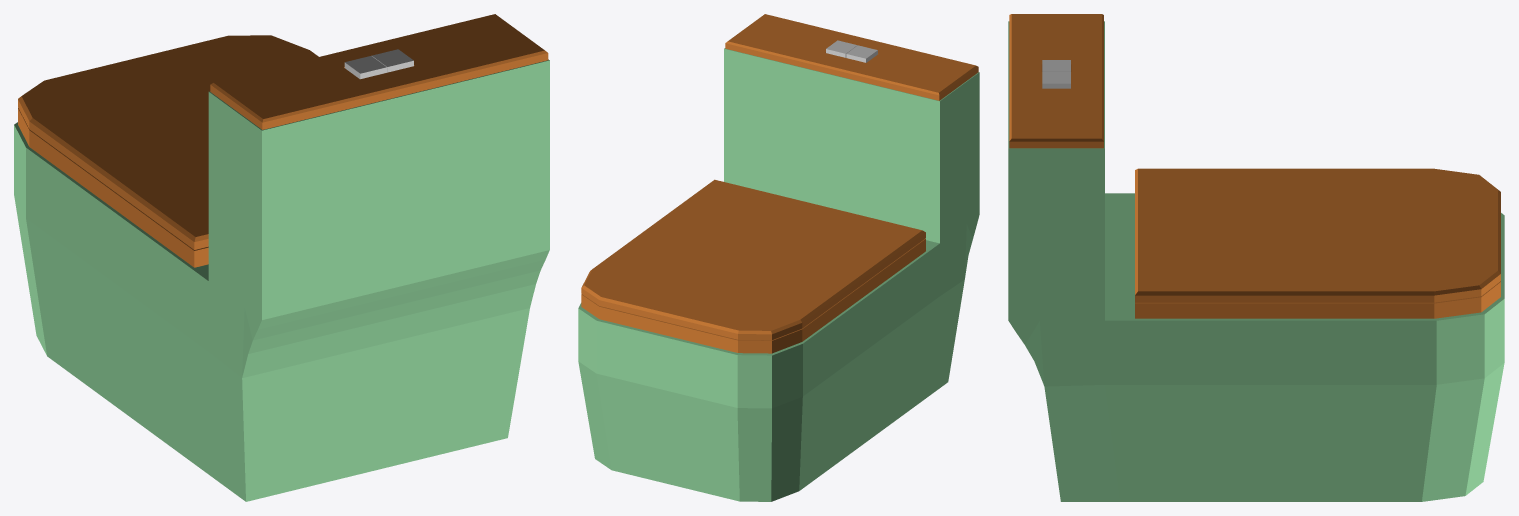
The model's file is Toilet 1.fbx.
3 views of the same model, side by side, from view 1: azimuth 30°, elevation 25°; view 2: azimuth 150°, elevation 25°; view 3: azimuth 270°, elevation 25° (orthographic). The views are drawn at different scales.
Parts seen in each view (by area): view 1: Node 0, Node 2, Node 1; view 2: Node 0, Node 2, Node 1; view 3: Node 0, Node 2, Node 1.
Part boxes in pixels (x1,y1,x2,y2): Node 0: (14, 14, 549, 501); Node 2: (18, 35, 318, 249); Node 1: (18, 108, 208, 267); Node 0: (578, 14, 979, 501); Node 2: (581, 179, 925, 340); Node 1: (581, 238, 925, 353); Node 0: (1008, 14, 1504, 501); Node 2: (1135, 168, 1500, 302); Node 1: (1135, 281, 1500, 318).
Size of the model in its own units: 1.3 by 1.07 by 0.7906.
